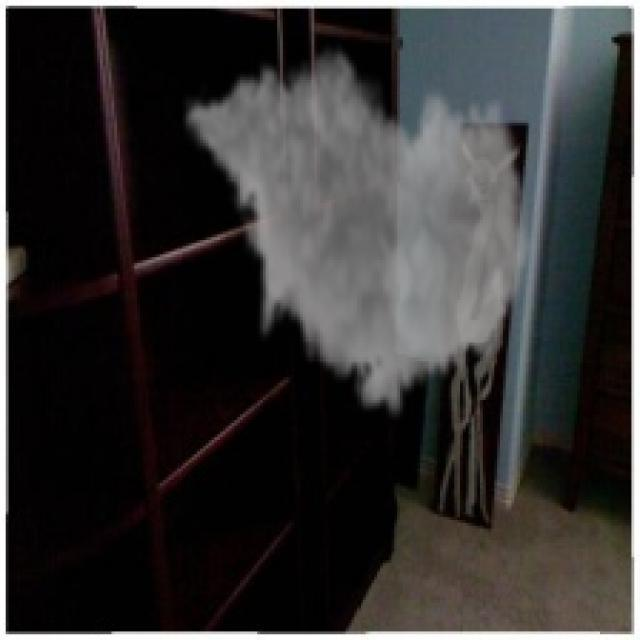Smoke: (180, 37, 534, 426)
